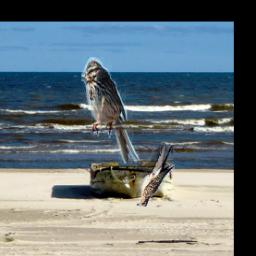Cuckoo: (136, 145, 174, 206)
Sparrow: (80, 57, 139, 164)
